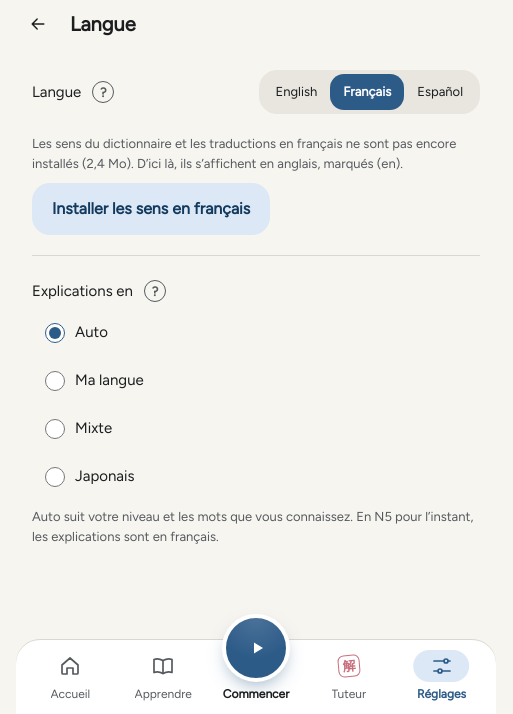
Test: Settings in the learner language (N7b) › offers the language pack when it is missing, and installs it
The width and height of the screenshot is (513, 714).
Expected: the text "ne sont pas encore installés (2,4 Mo)" is shown, [32,136,456,170]
Click the button "Installer les sens en français" at (151,209), box [32,183,270,235]
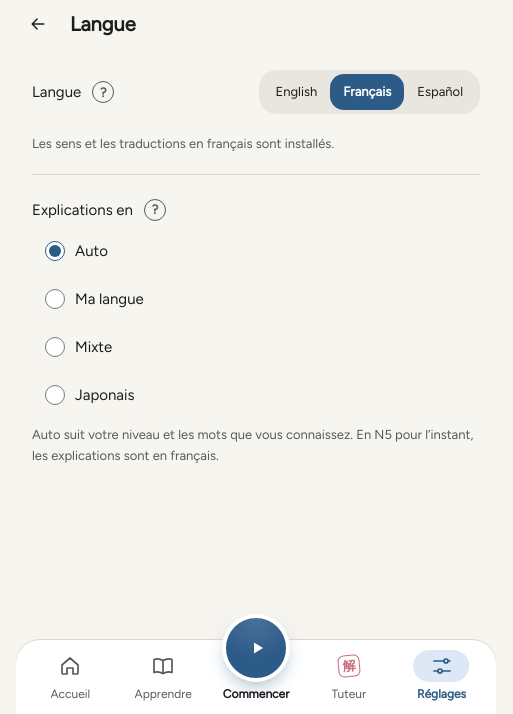
Now the text "Les sens et les traductions en français sont installés." is shown, box [32,134,334,154]
